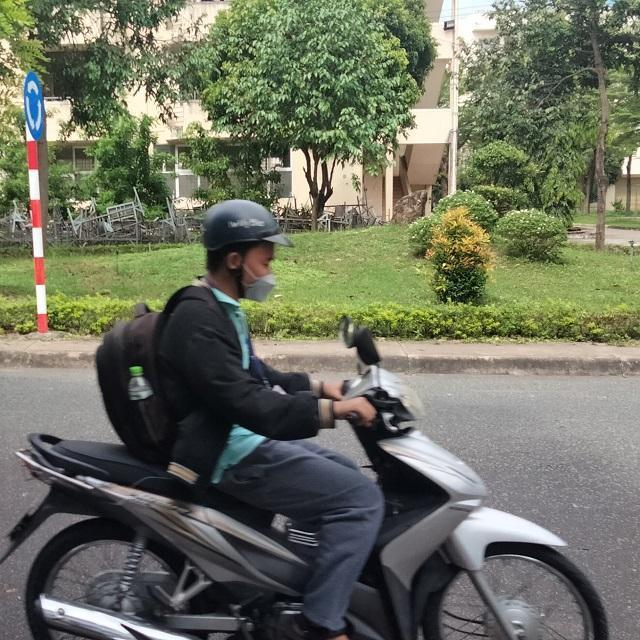Helmet: (198, 198, 286, 302)
